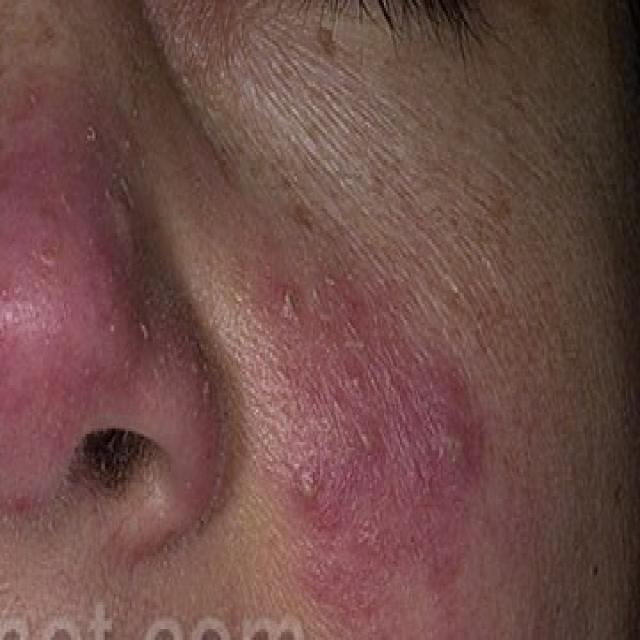Rosacea: (263, 277, 496, 584)
